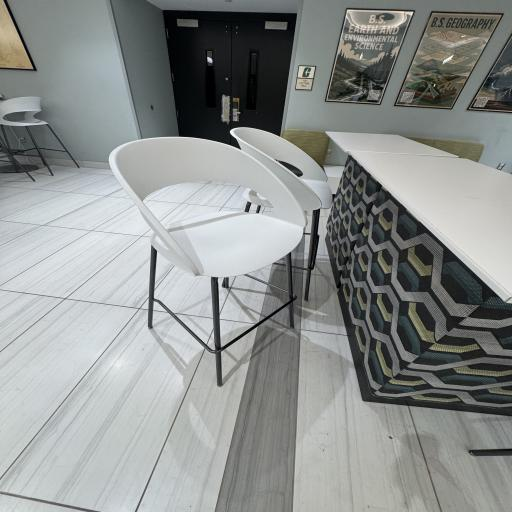chair: (107, 134, 303, 382), (230, 120, 334, 298), (0, 93, 51, 178)
door: (159, 10, 295, 143)
poster: (340, 3, 388, 107), (424, 6, 467, 108), (0, 2, 43, 70)
table: (366, 154, 512, 279), (344, 128, 432, 161)
